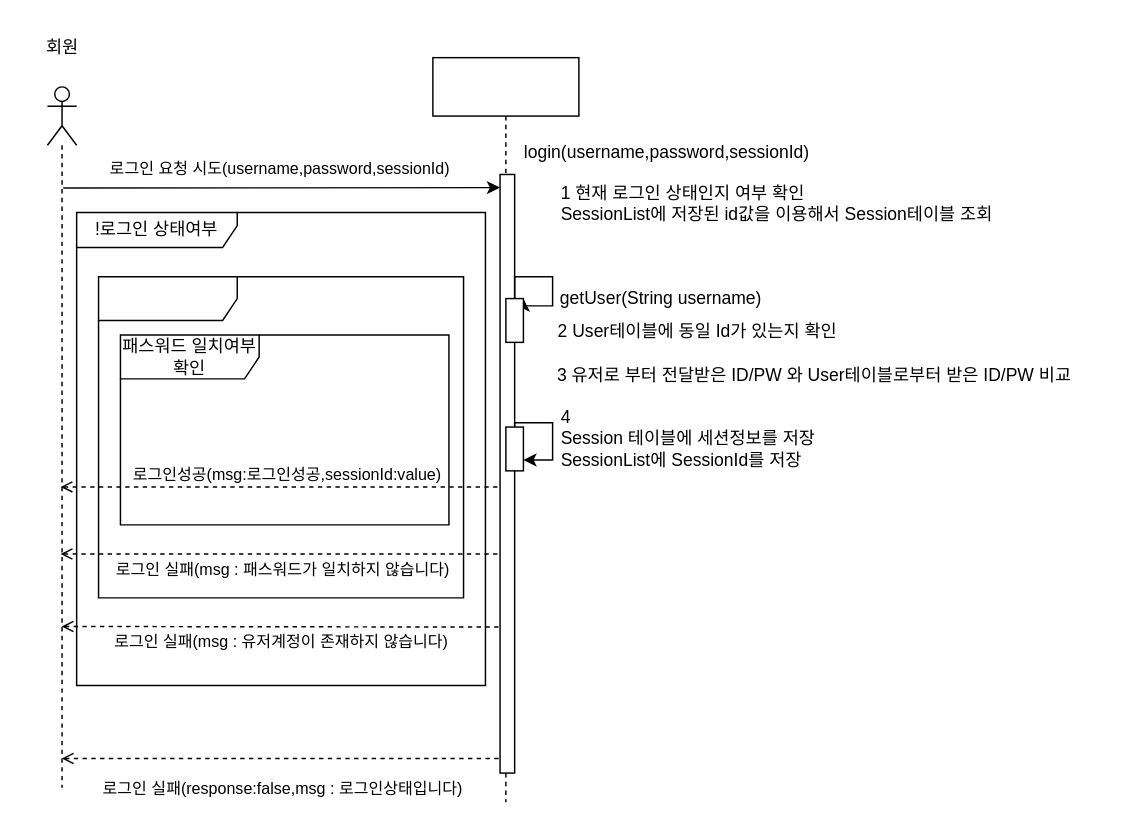
Some shapes in this 1123 by 828 pixel diagram are drawn without their labels. The box of each missing label's shape, as (x1, y1, x2, y2) in pixels:
UserService: (431, 56, 579, 802)
계정유무확인: (97, 275, 464, 598)
